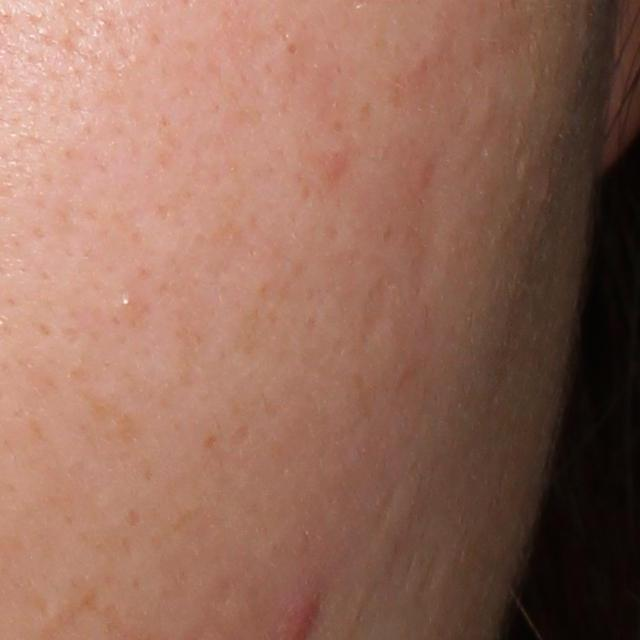comedo: (284, 37, 304, 62), (120, 292, 138, 309)
